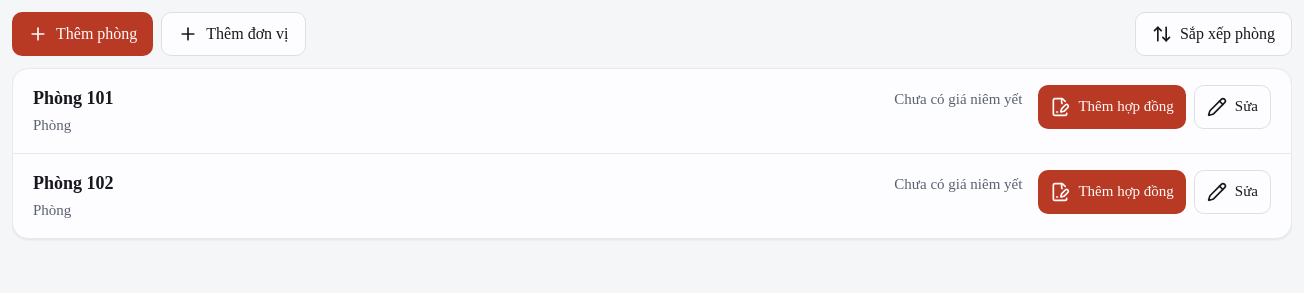
Test: UnitList reorder mode › hides Lên and Xuống until Sắp xếp phòng, and Xong hides them again
Click the button "Sắp xếp phòng" at (1213, 34), box [1135, 12, 1292, 56]
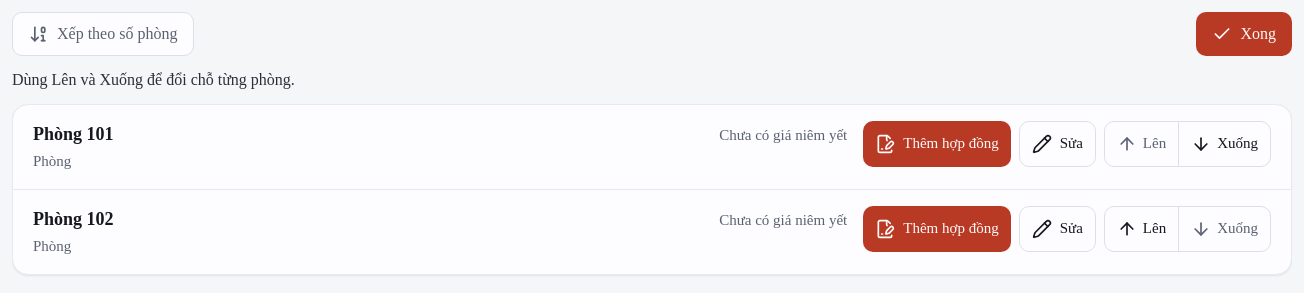
Now the button with aria-label "Đưa Phòng 101 lên" is disabled, box [1105, 122, 1178, 166]
Now the button "Thêm phòng" is gone
Click the button "Xong" at (1244, 34), box [1196, 12, 1292, 56]
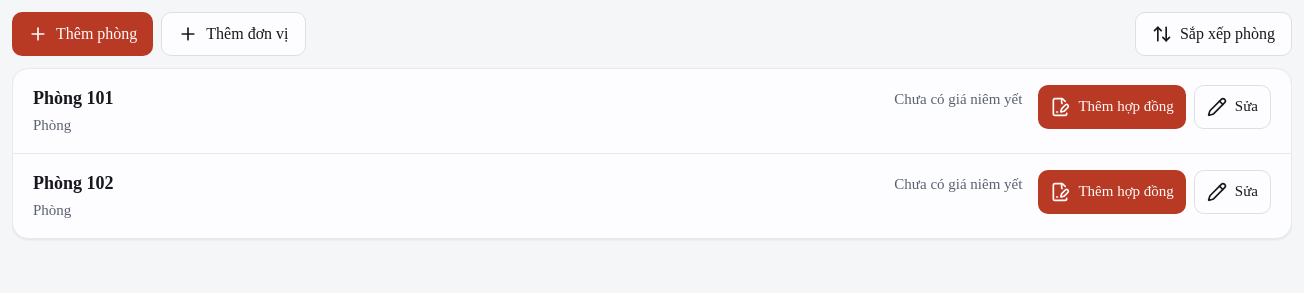
Now the button "Thêm phòng" is shown, box [12, 12, 153, 56]
